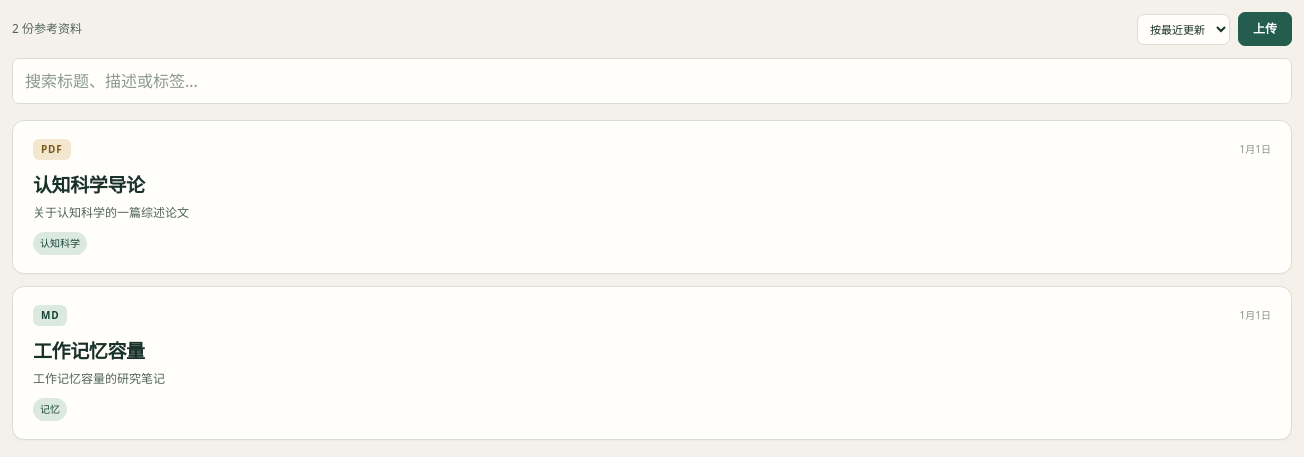
Test: ReferenceList › 搜索按描述过滤
Type "综述" into the field with class "search-input" at (652, 81), box [12, 58, 1292, 104]
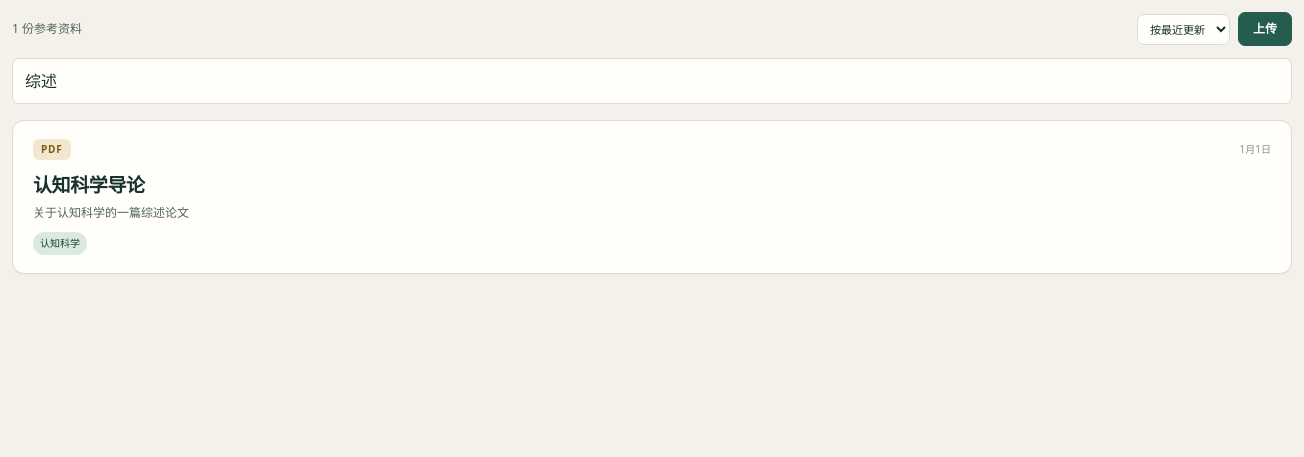
Check: the text "认知科学导论" is shown, box [33, 175, 145, 196]
Check: the number of elements with class "reference-card" is 1, box [12, 120, 1292, 274]
